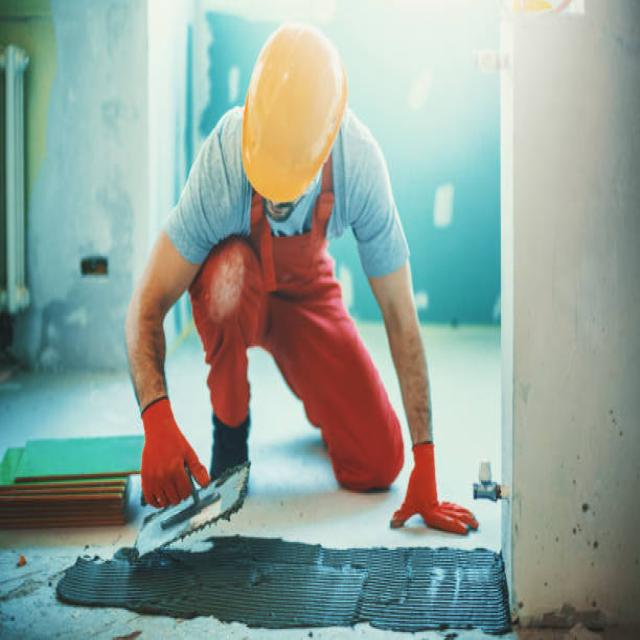gloves: (391, 443, 480, 534), (139, 395, 209, 507)
